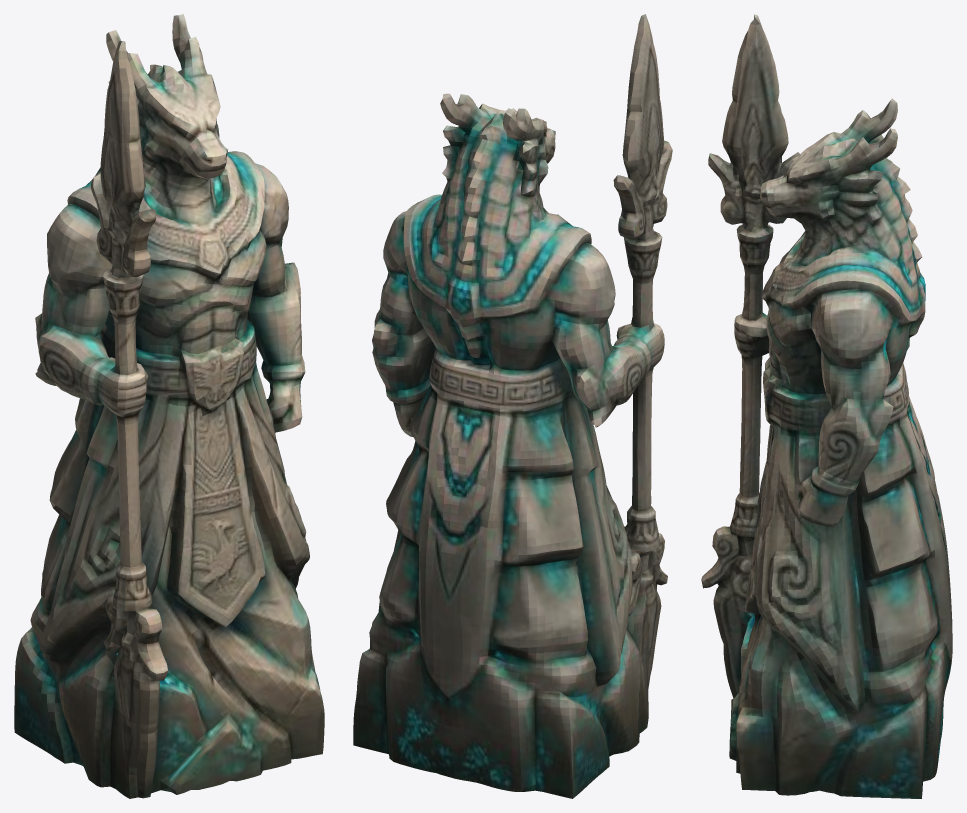
File: p_dragonfatherstatues.glb
The picture shows the model from 3 angles, left to right: view 1: azimuth 30°, elevation 25°; view 2: azimuth 150°, elevation 25°; view 3: azimuth 270°, elevation 25°; orthographic projection. The views are drawn at different scales.
Size of the model in its own units: 0.6848 by 1.91 by 0.6317.
Materials: 1 (1 with a texture image).
